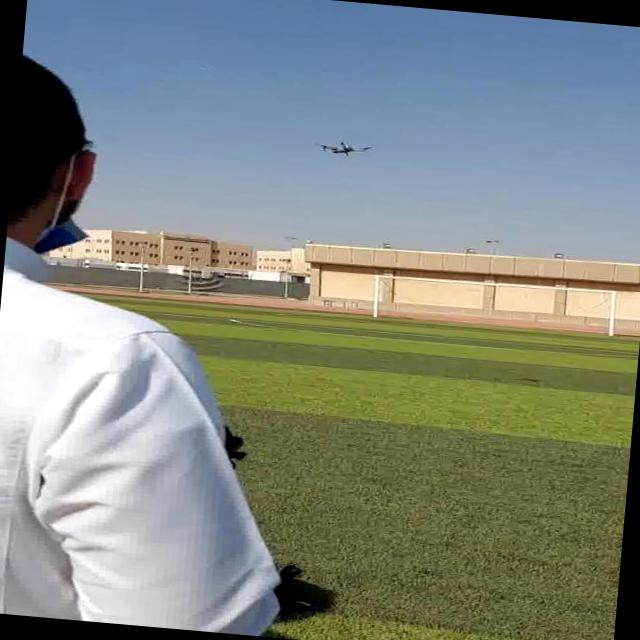drone: (302, 134, 376, 161)
